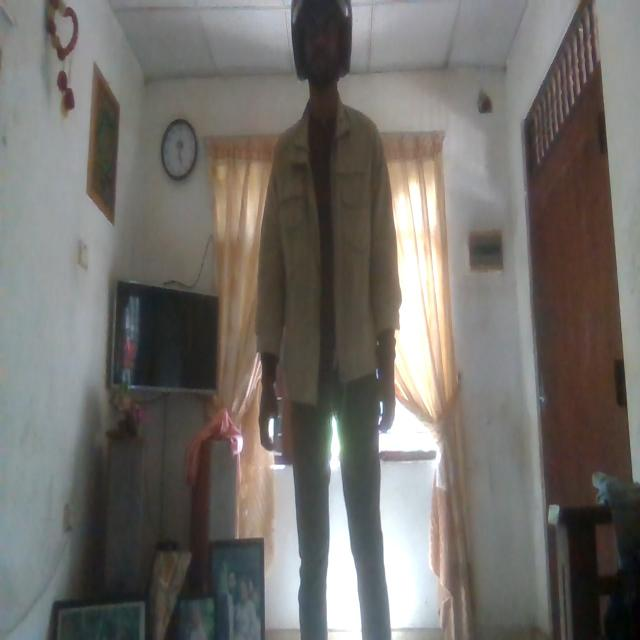Helmet_Wearer: (284, 0, 361, 116)
Jacket_Wearer: (259, 112, 397, 429)
Person: (259, 0, 401, 640)
